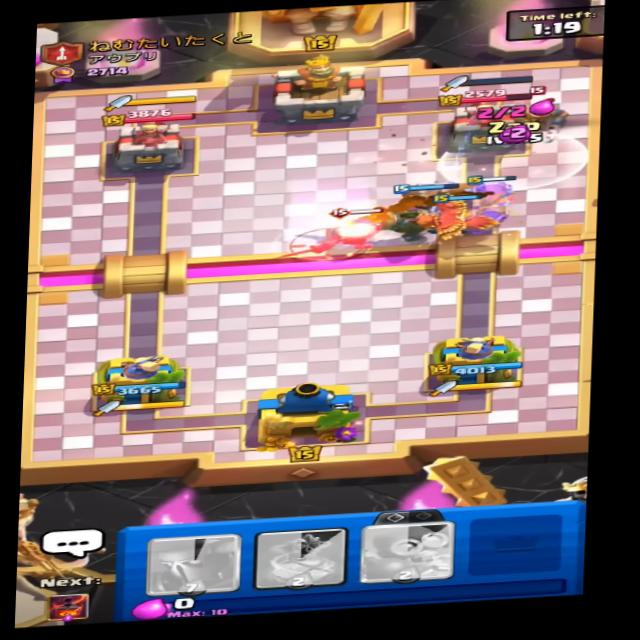EvoKnight: (324, 202, 396, 251)
Prince: (500, 89, 576, 142)
